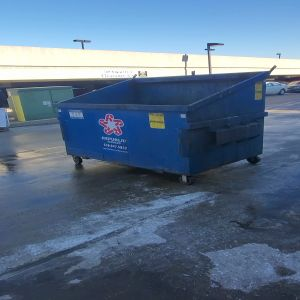Dumpster: (54, 71, 272, 190)
